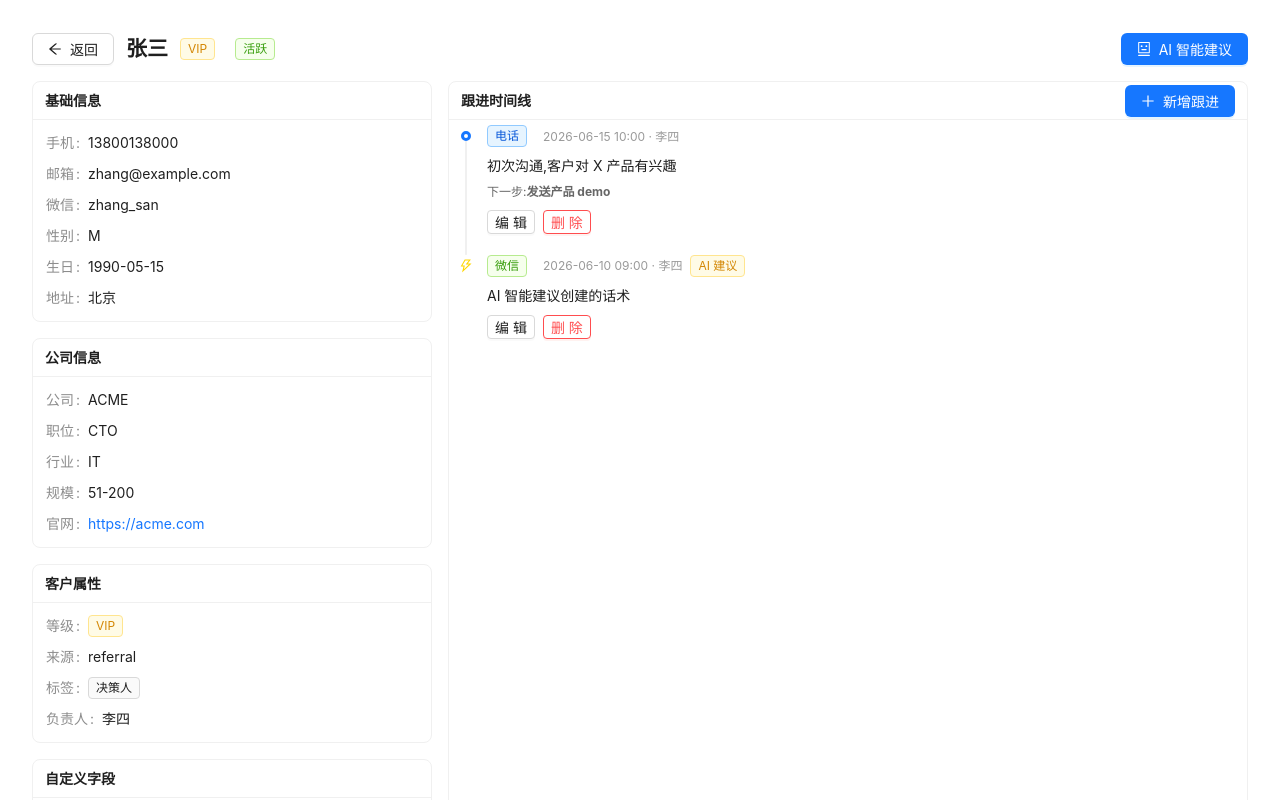
Test: CustomerDetailPage › opens create follow-up modal
The width and height of the screenshot is (1280, 800).
Expected: the heading "张三" is shown, [126,32,168,65]
Click the button "新增跟进" at (1180, 100), box [1125,84,1235,116]
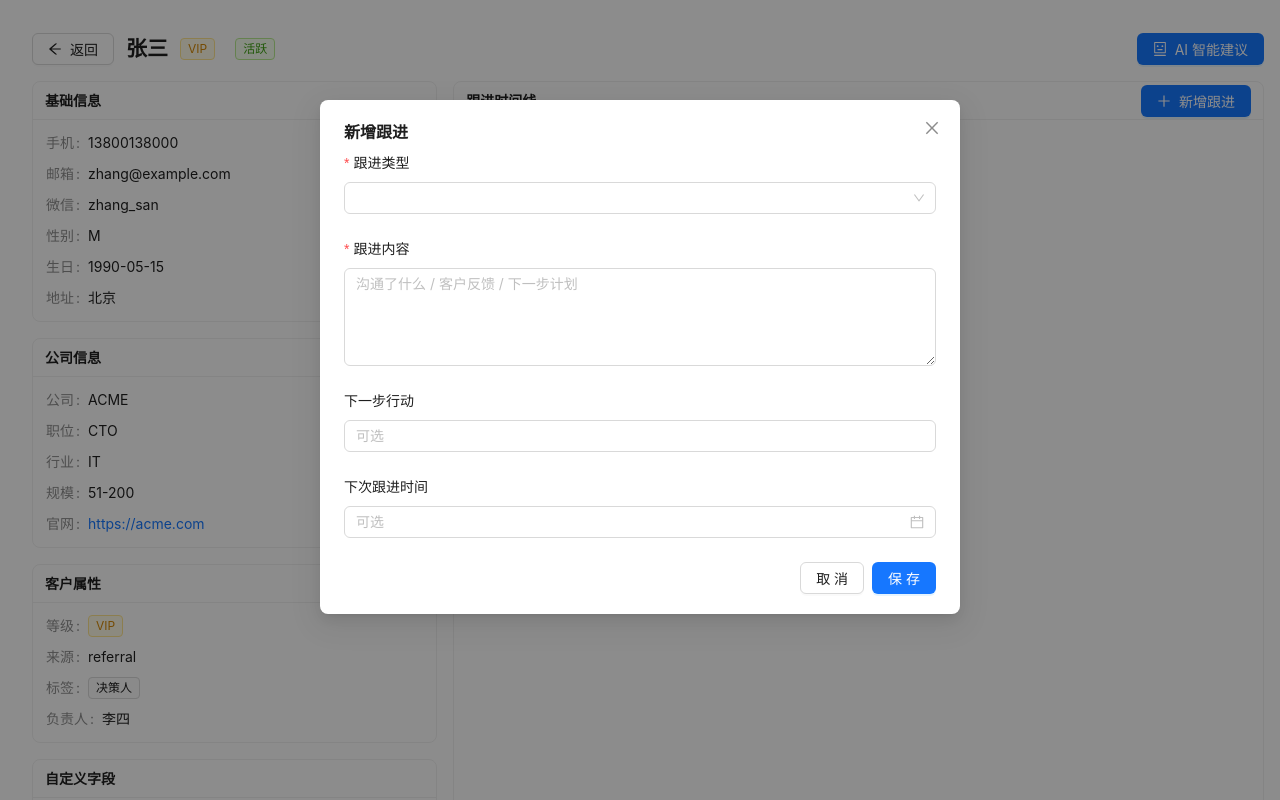
Now the element showing "新增跟进 跟进类型 跟进内容 下一步行动 下次跟进时间 取 消 保 存" is shown, box [320,100,960,614]
